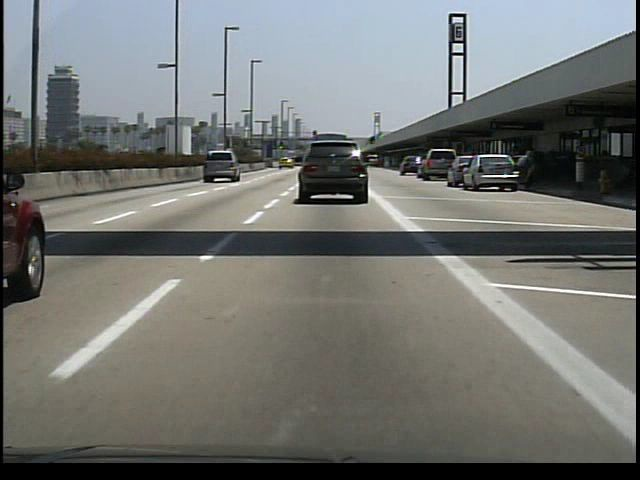person: (515, 147, 541, 190)
